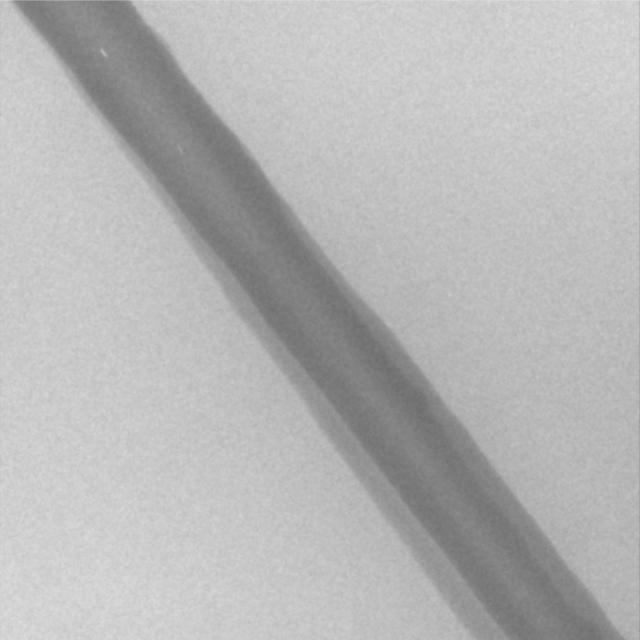air hole: (177, 143, 185, 157), (99, 48, 107, 59)
